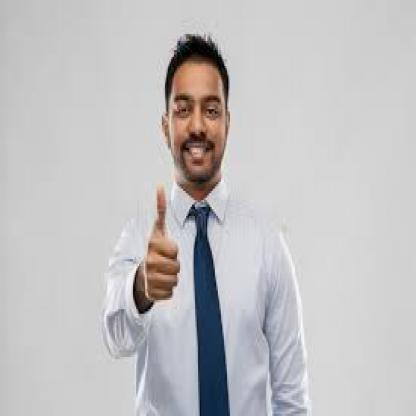Thumbs up: (129, 174, 187, 324)
